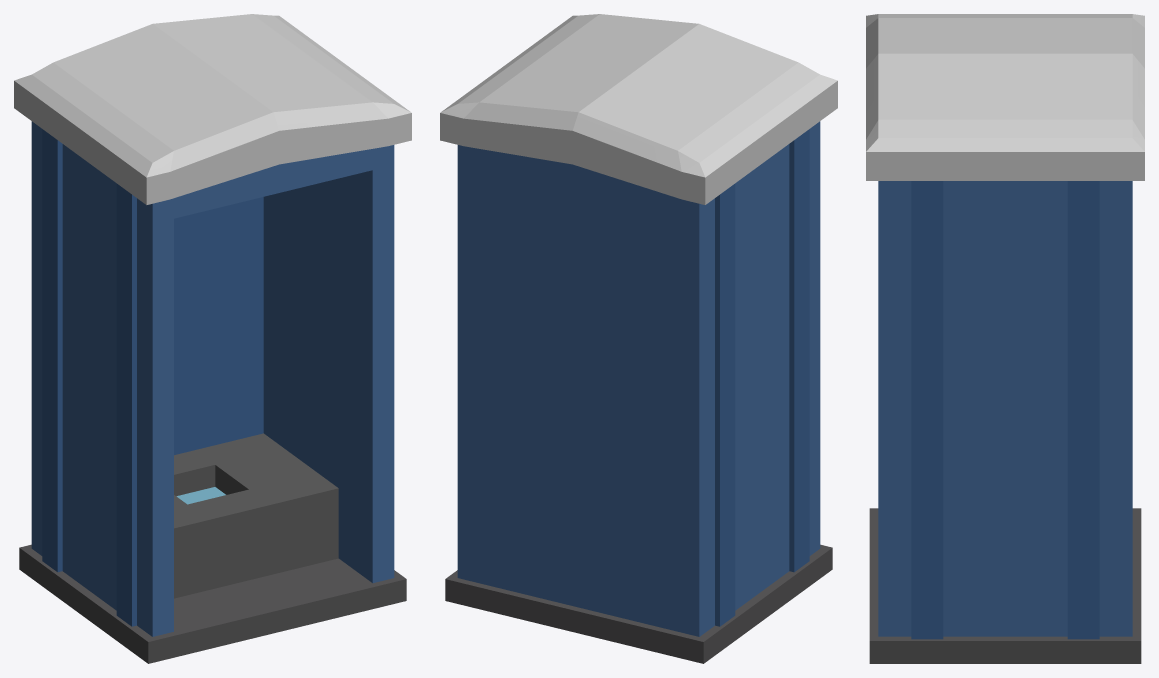
File: SM_Props_WC_01.glb
3 views of the same model, side by side, from view 1: azimuth 30°, elevation 25°; view 2: azimuth 150°, elevation 25°; view 3: azimuth 270°, elevation 25° (orthographic). The views are drawn at different scales.
Parts seen in each view (by area): view 1: SM_Props_WC_01; view 2: SM_Props_WC_01; view 3: SM_Props_WC_01.
Boxes of the visible parts, box(x1,y1,x2,y2) form: SM_Props_WC_01: box(14, 14, 411, 663); SM_Props_WC_01: box(440, 14, 837, 663); SM_Props_WC_01: box(866, 14, 1144, 663).
Bounding box in the file's own units: 1.32 × 2.46 × 1.14.
1 material, 1 textured.
